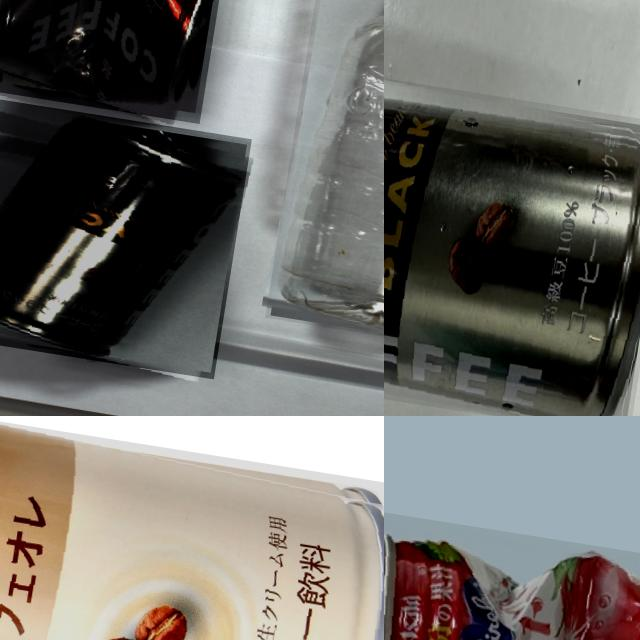Can: (384, 58, 640, 416), (0, 416, 384, 640), (0, 94, 250, 379), (384, 510, 640, 640), (0, 0, 233, 123)
Transparent Plastic Bottle: (264, 0, 384, 361)
